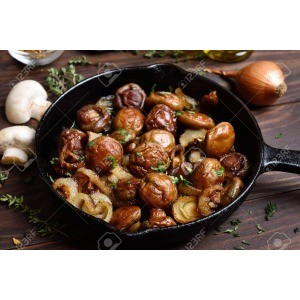mushroom_brain food: (78, 104, 227, 198)
